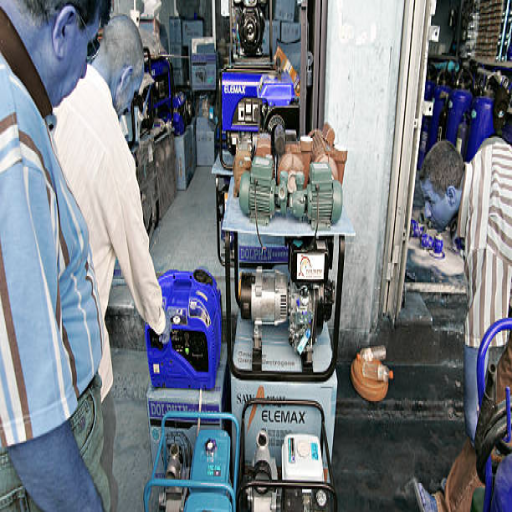portable_generator: (227, 220, 335, 380), (240, 396, 335, 512), (144, 411, 240, 512), (221, 70, 286, 171)
